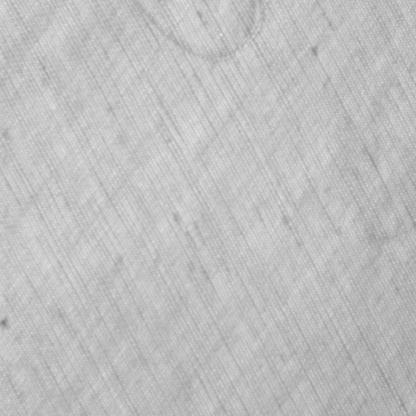objects: (128, 0, 265, 64)
